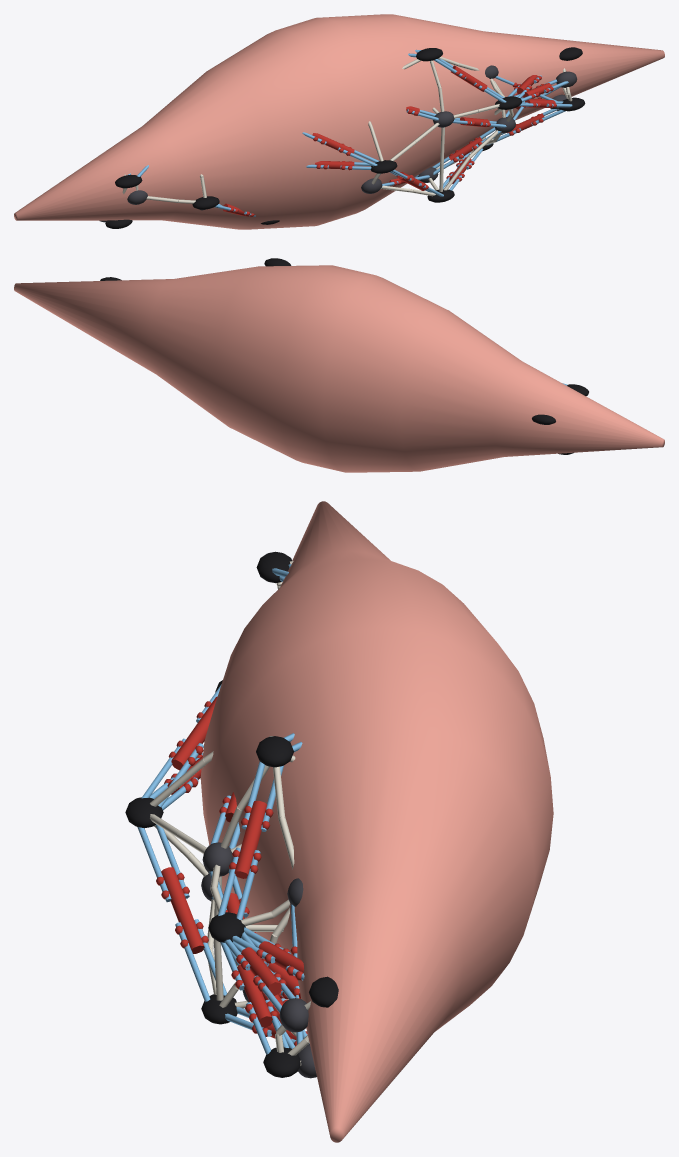
The model's file is densebodies.glb.
3 renders of one model, top to bottom at view 1: azimuth 30°, elevation 25°; view 2: azimuth 150°, elevation 25°; view 3: azimuth 270°, elevation 25°, orthographic. The views are drawn at different scales.
Parts seen in each view (by area): view 1: Plasma membrane, Intermediate filaments, Dense bodies.036, Dense bodies.044, Dense bodies.019, Dense bodies.047, Dense bodies.041, Dense bodies.015, Dense bodies.039, Dense bodies.026, Dense bodies.016, Dense bodies.031 (+2 smaller); view 2: Plasma membrane; view 3: Plasma membrane, Intermediate filaments, Dense bodies.044, Dense bodies.036, Dense bodies.039, Thick filaments.036, Dense bodies.041, Thick filaments.041, Dense bodies.015, Dense bodies.047, Dense bodies.026, Thick filaments.033 (+2 smaller).
Boxes of the visible parts, bbox=[...] form: Plasma membrane: bbox=[14, 14, 664, 229]; Intermediate filaments: bbox=[122, 57, 572, 203]; Dense bodies.036: bbox=[338, 147, 413, 181]; Dense bodies.044: bbox=[474, 82, 537, 109]; Dense bodies.019: bbox=[472, 106, 524, 150]; Dense bodies.047: bbox=[531, 97, 585, 125]; Dense bodies.041: bbox=[408, 48, 466, 79]; Dense bodies.015: bbox=[406, 109, 471, 127]; Dense bodies.039: bbox=[418, 171, 463, 202]; Dense bodies.026: bbox=[536, 71, 577, 95]; Dense bodies.016: bbox=[414, 152, 463, 182]; Dense bodies.031: bbox=[192, 196, 235, 211]; Plasma membrane: bbox=[14, 265, 664, 472]; Plasma membrane: bbox=[200, 501, 553, 1142]; Intermediate filaments: bbox=[150, 561, 310, 1065]; Dense bodies.044: bbox=[208, 847, 290, 990]; Dense bodies.036: bbox=[125, 738, 203, 902]; Dense bodies.039: bbox=[175, 919, 271, 1036]; Thick filaments.036: bbox=[156, 867, 208, 953]; Dense bodies.041: bbox=[241, 733, 302, 831]; Thick filaments.041: bbox=[228, 800, 273, 878]; Dense bodies.015: bbox=[202, 795, 248, 917]; Dense bodies.047: bbox=[246, 999, 300, 1077]; Dense bodies.026: bbox=[253, 972, 308, 1032]; Thick filaments.033: bbox=[168, 696, 217, 770].
Size of the model in its own units: 7 by 1.94 by 2.01.
